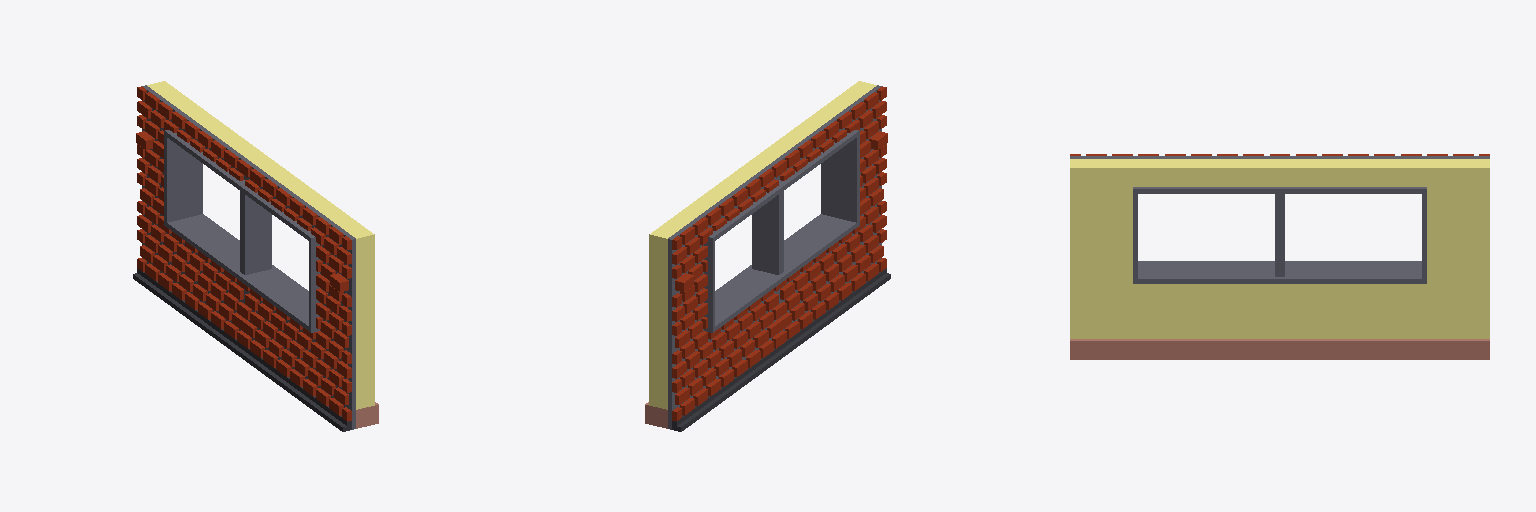
3 views of the same model, side by side, from view 1: azimuth 30°, elevation 25°; view 2: azimuth 150°, elevation 25°; view 3: azimuth 270°, elevation 25° (orthographic).
Visible parts, largest first — view 1: object 1; view 2: object 1; view 3: object 1.
Boxes of the visible parts, <box> form: object 1: <box>133,81,378,431</box>; object 1: <box>645,81,890,431</box>; object 1: <box>1070,154,1489,359</box>.
Bounding box in the file's own units: 0.8 × 4 × 8.
Materials: 1 (1 with a texture image).